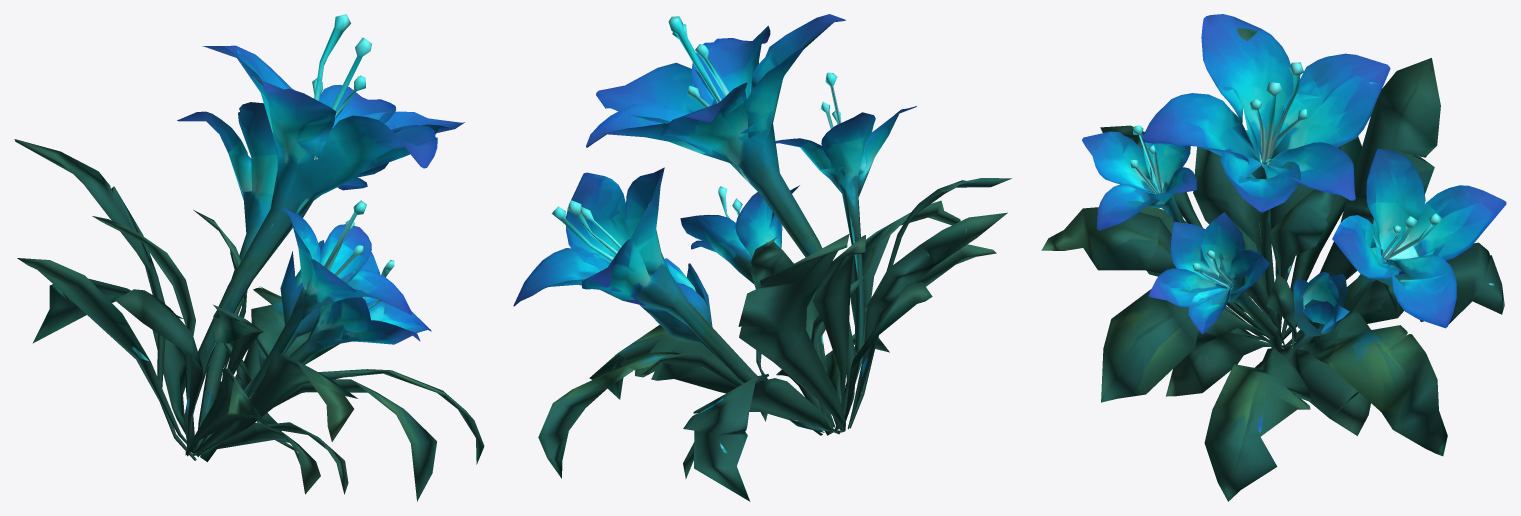
The model's file is GlowFlowers_LOD1.fbx.
3 renders of one model, left to right at view 1: azimuth 30°, elevation 25°; view 2: azimuth 150°, elevation 25°; view 3: azimuth 270°, elevation 25°, orthographic. The views are drawn at different scales.
Parts seen in each view (by area): view 1: GlowFlowers_LOD1; view 2: GlowFlowers_LOD1; view 3: GlowFlowers_LOD1.
Boxes of the visible parts, <box> form: GlowFlowers_LOD1: <box>14,14,484,501</box>; GlowFlowers_LOD1: <box>513,14,1011,501</box>; GlowFlowers_LOD1: <box>1041,14,1506,501</box>.
Bounding box in the file's own units: 1.42 × 1.51 × 1.6.
